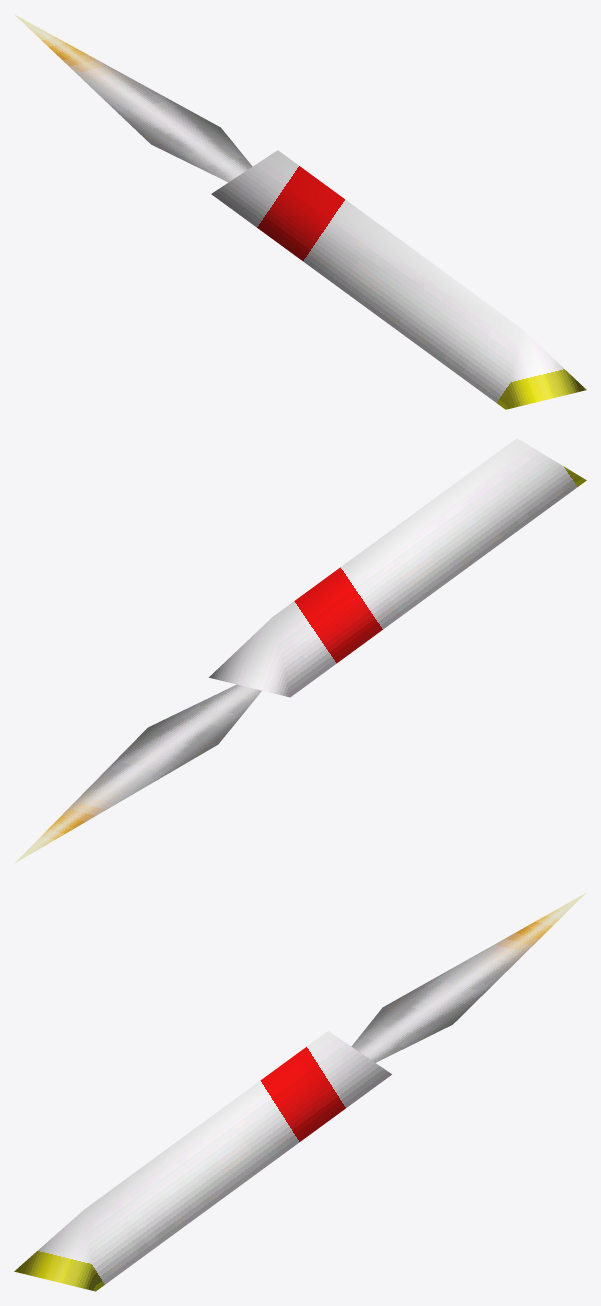
Rendered from LongMissileZ_Anim.glb.
3 renders of one model, top to bottom at view 1: azimuth 30°, elevation 25°; view 2: azimuth 150°, elevation 25°; view 3: azimuth 330°, elevation 25°, orthographic.
Parts seen in each view (by area): view 1: LongMissileZ_Anim; view 2: LongMissileZ_Anim; view 3: LongMissileZ_Anim.
Part boxes in pixels (box(x1,y1,x2,y2)): LongMissileZ_Anim: box(14, 14, 586, 409); LongMissileZ_Anim: box(14, 438, 586, 863); LongMissileZ_Anim: box(14, 892, 586, 1291).
Bounding box in the file's own units: 1.71 × 1.09 × 19.35.
2 materials, 2 textured.
